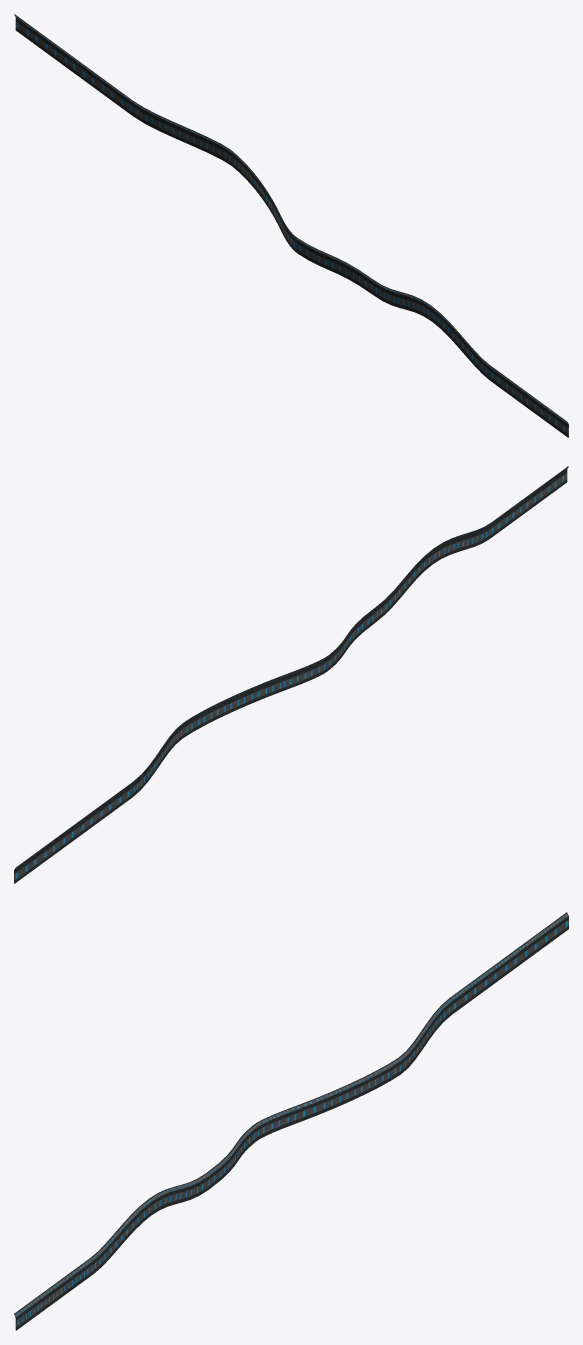
Rendered from Side_Wall.FBX.
3 renders of one model, top to bottom at view 1: azimuth 30°, elevation 25°; view 2: azimuth 150°, elevation 25°; view 3: azimuth 330°, elevation 25°, orthographic.
Visible parts, largest first — view 1: Line024; view 2: Line024; view 3: Line024.
Part boxes in pixels (x1,y1,x2,y2): Line024: (14, 14, 568, 437); Line024: (14, 466, 568, 883); Line024: (14, 912, 568, 1330).
Bounding box in the file's own units: 27.5 × 20.24 × 618.
